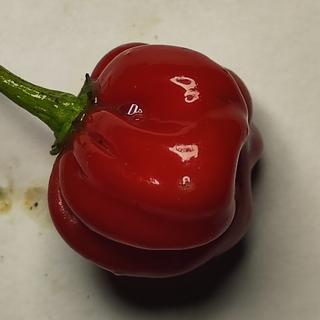Grade-B: (43, 36, 274, 280)
